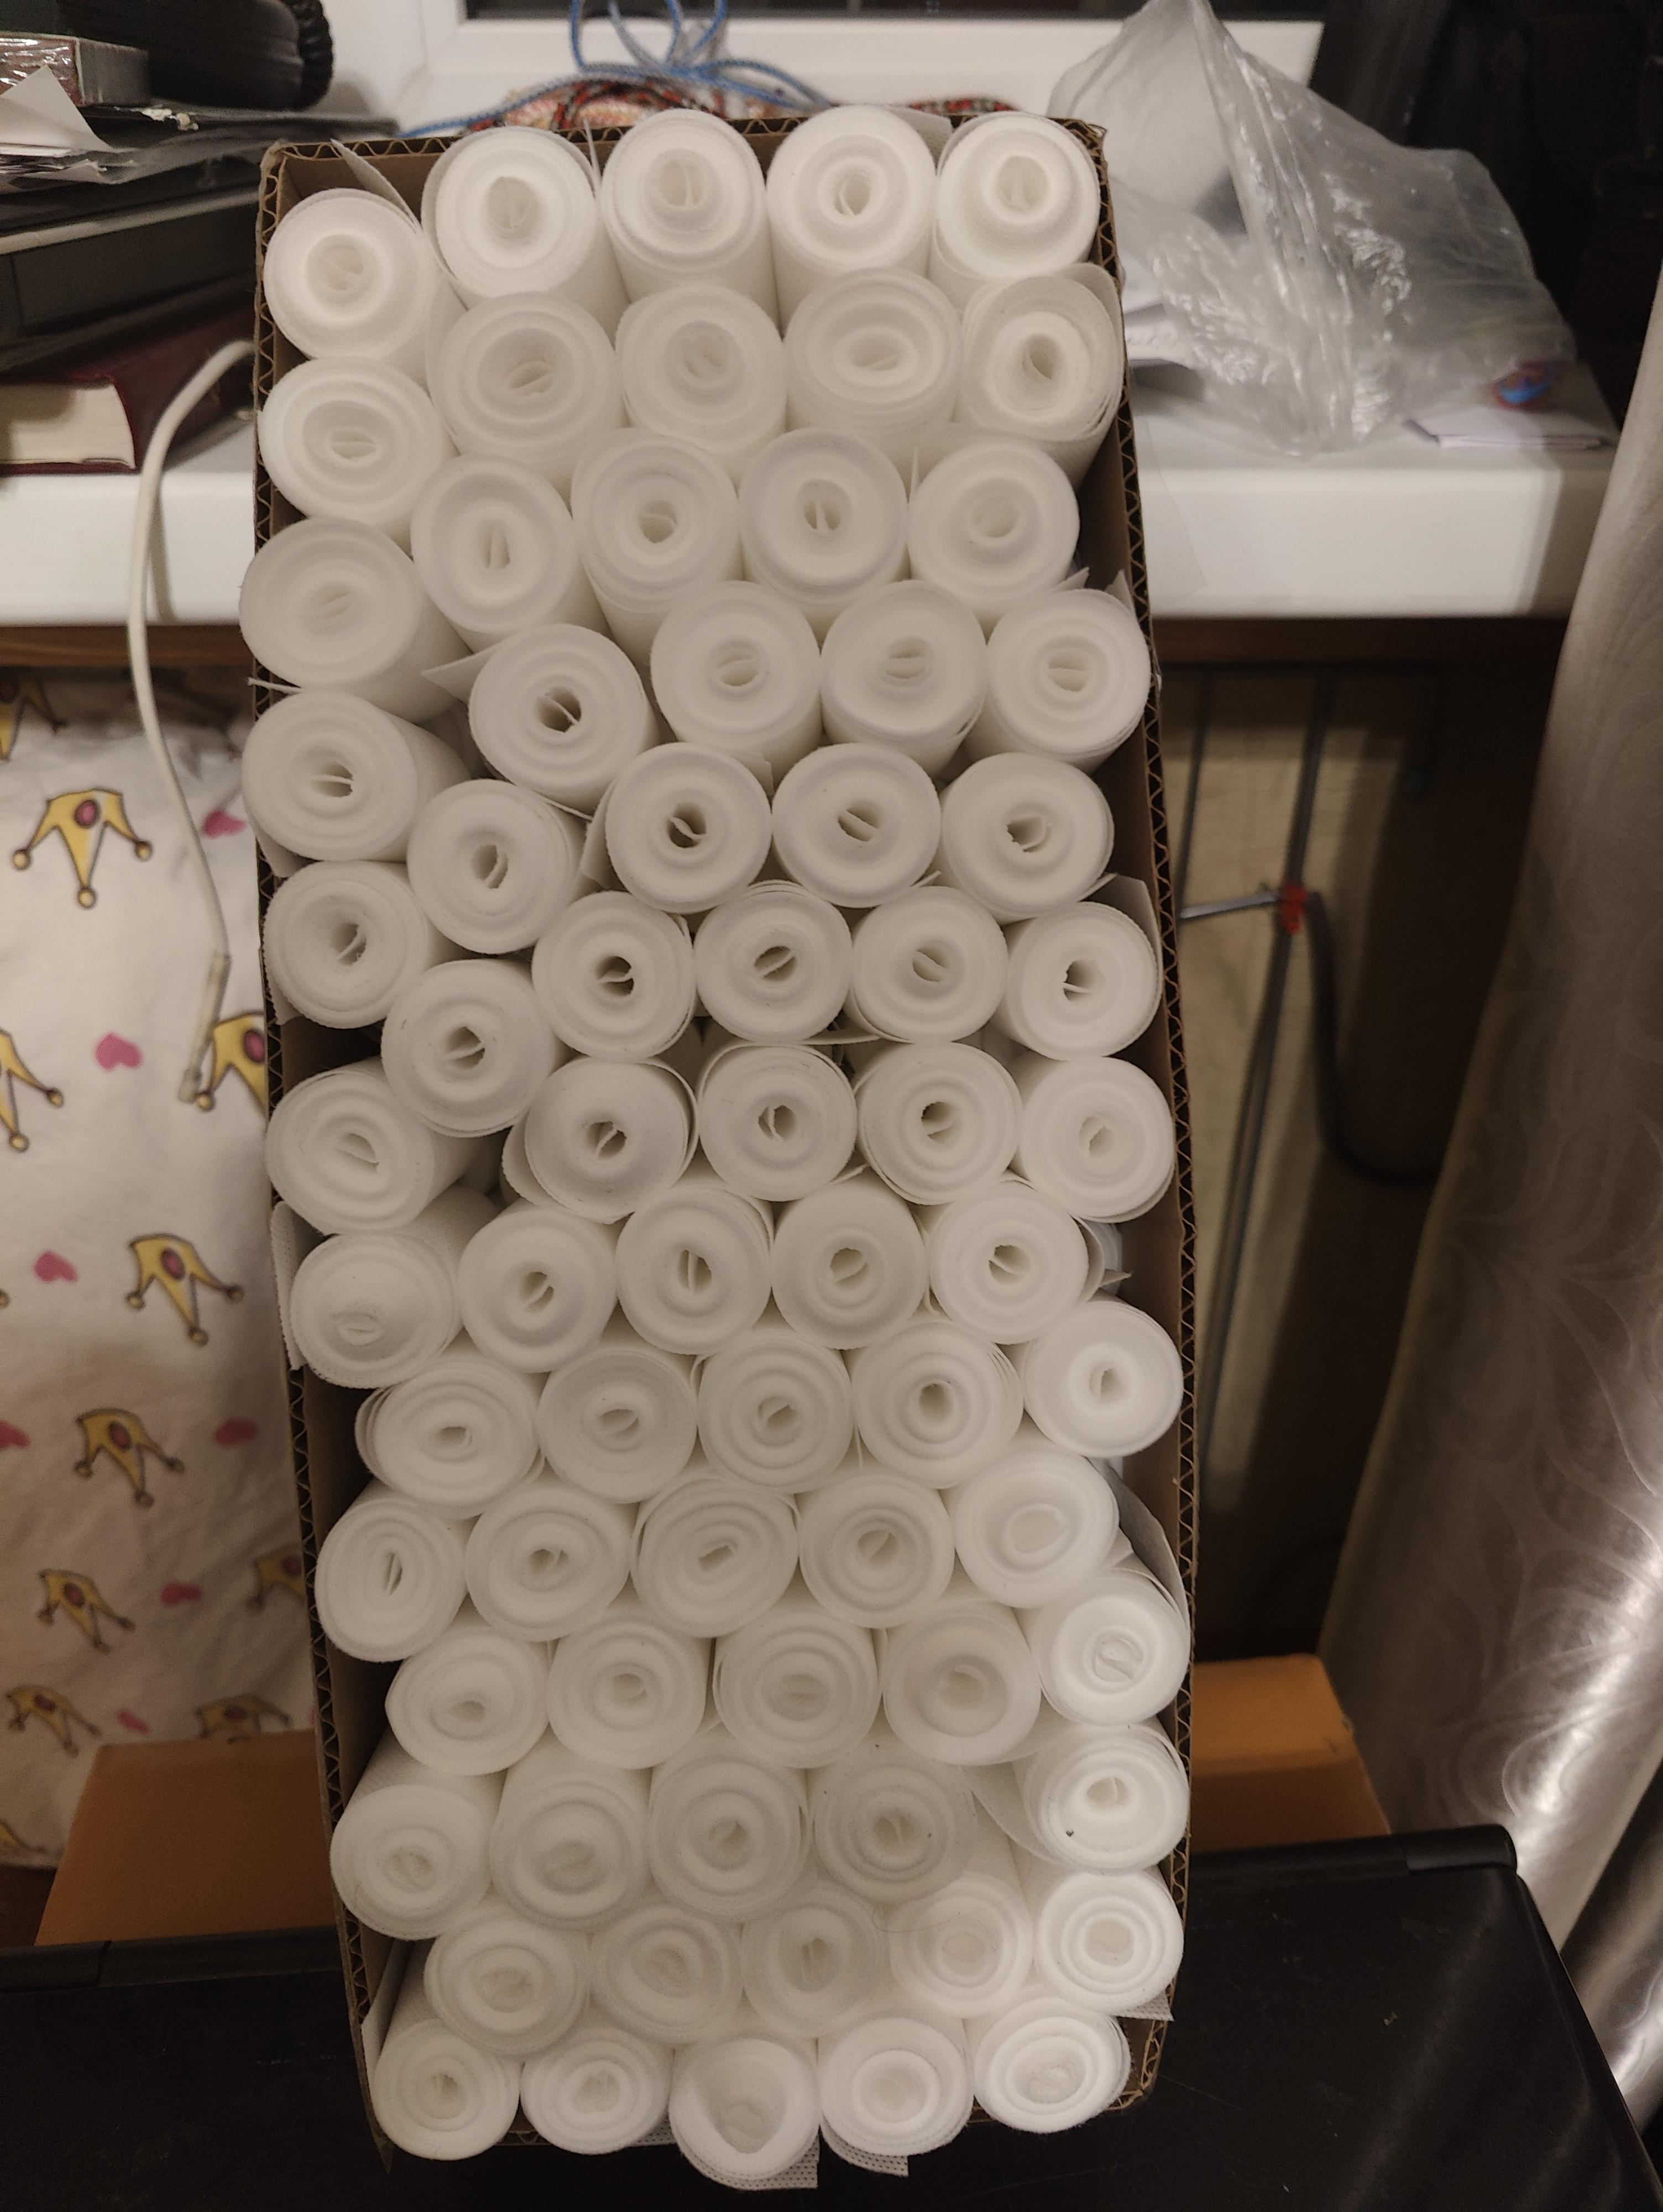roll: (238, 526, 473, 730), (419, 122, 620, 330), (571, 433, 753, 660), (257, 185, 452, 384), (428, 295, 620, 498), (458, 624, 660, 814), (236, 683, 442, 870), (954, 269, 1128, 486), (596, 105, 770, 320), (763, 103, 936, 315), (409, 454, 596, 648), (255, 351, 452, 535), (903, 435, 1085, 632), (926, 107, 1102, 308), (611, 281, 786, 482), (645, 584, 825, 778), (781, 269, 961, 463), (732, 426, 905, 622), (404, 774, 585, 956), (323, 1758, 501, 1943), (262, 1064, 454, 1235), (980, 587, 1158, 771), (486, 1740, 660, 1927), (377, 950, 559, 1129), (597, 741, 781, 916), (814, 584, 985, 767), (643, 1740, 818, 1918), (257, 854, 437, 1027), (802, 1737, 983, 1908), (529, 888, 706, 1062), (938, 750, 1118, 921), (309, 1485, 479, 1665), (356, 1351, 540, 1517), (845, 1319, 1022, 1490), (1015, 1296, 1188, 1469), (769, 739, 945, 909), (629, 1468, 805, 1637), (459, 1471, 638, 1639), (451, 1200, 622, 1373), (872, 1599, 1045, 1770), (383, 1613, 557, 1782), (702, 1595, 875, 1765), (517, 1052, 697, 1214), (947, 1441, 1121, 1607), (760, 1167, 929, 1337), (687, 882, 858, 1050), (611, 1185, 783, 1352), (1020, 1567, 1191, 1735), (1017, 1719, 1195, 1880), (922, 1179, 1094, 1345), (1006, 1047, 1177, 1213), (849, 1038, 1022, 1202), (531, 1344, 700, 1510), (542, 1604, 711, 1770), (997, 900, 1167, 1064), (687, 1333, 856, 1496), (692, 1033, 863, 1193), (367, 1992, 528, 2163), (281, 1228, 456, 1386), (845, 882, 1013, 1045), (793, 1462, 959, 1623), (421, 1903, 589, 2062), (809, 2011, 970, 2170), (966, 1990, 1130, 2142), (879, 1868, 1036, 2025), (1029, 1863, 1188, 2016), (667, 2030, 826, 2184), (585, 1896, 748, 2046), (517, 2018, 681, 2165), (741, 1885, 896, 2039)
